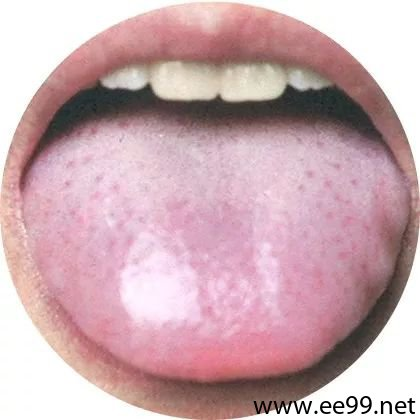baitaishe: (19, 91, 410, 382)
hongdianshe: (302, 167, 315, 180), (348, 175, 358, 187), (63, 178, 72, 189)
pangdashe: (19, 91, 410, 382)
